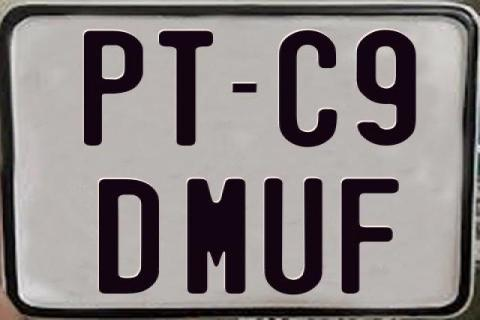0: (355, 27, 417, 148)
C: (279, 29, 338, 149)
D: (97, 180, 161, 298)
F: (340, 178, 404, 294)
M: (186, 177, 251, 295)
P: (83, 29, 147, 145)
T: (158, 29, 213, 150)
U: (262, 177, 324, 296)
